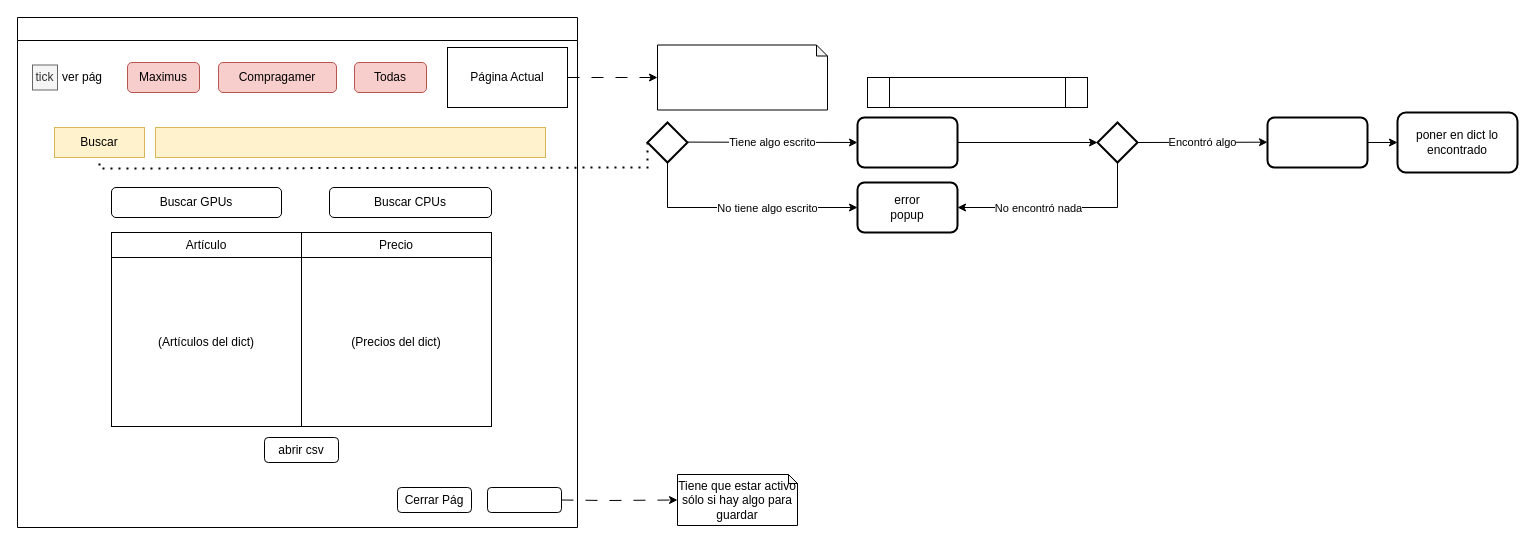
The diagram is 1536 pixels wide and 545 high, and some of its shapes have lost their labels. Each missing label, with the box of its shape:
Guardar: (486, 486, 562, 512)
info popup: (1266, 116, 1368, 168)
Pyscrapper: (16, 16, 578, 528)
Search: (856, 116, 958, 168)
search_button: (866, 76, 1088, 108)
Si no hay ninguna pagina actual, solo se puede cliquear alguna página: (656, 44, 828, 110)
